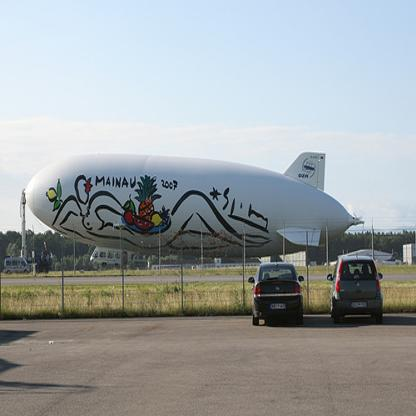Airship: (12, 143, 374, 254)
